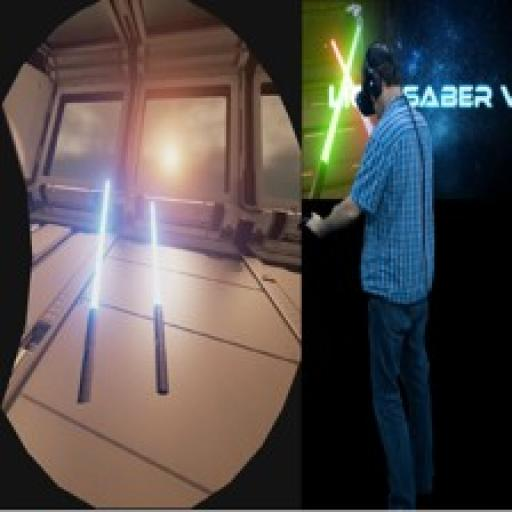human: (292, 40, 440, 512)
lightsaber: (313, 25, 363, 197), (77, 179, 112, 402), (148, 201, 171, 396), (331, 38, 374, 136)
